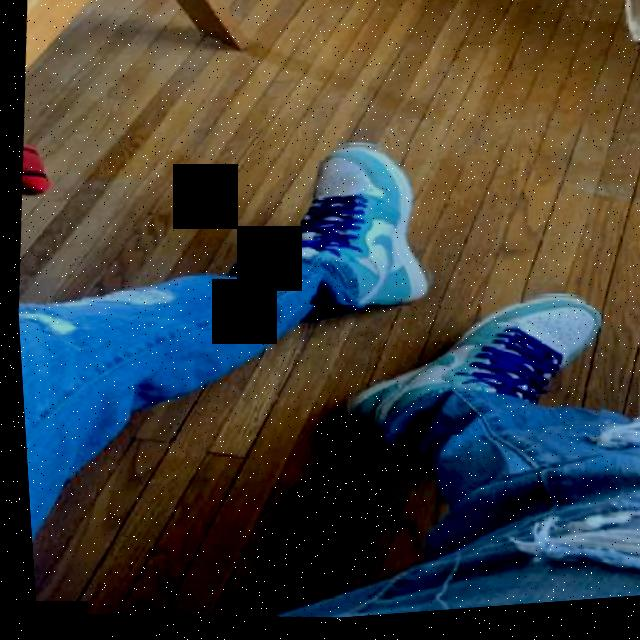shoe: (333, 280, 606, 460), (248, 132, 445, 322)
